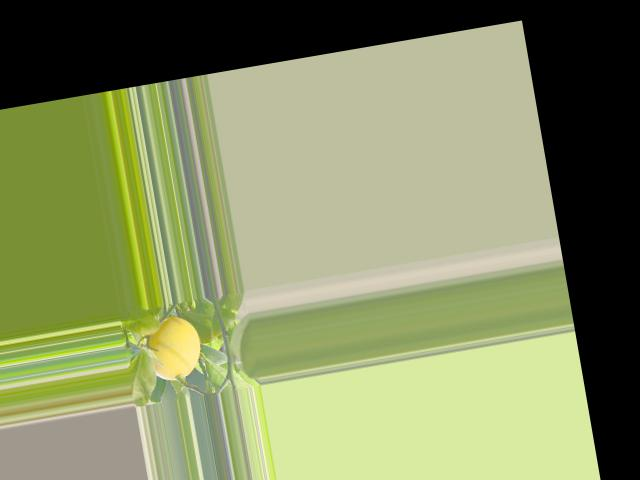lemon: (141, 311, 207, 388)
